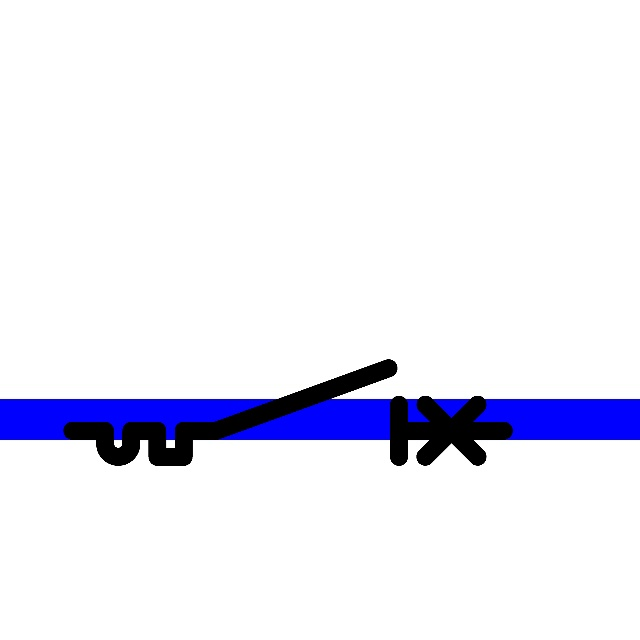interruptor_termomagnetico: (61, 357, 515, 468)
